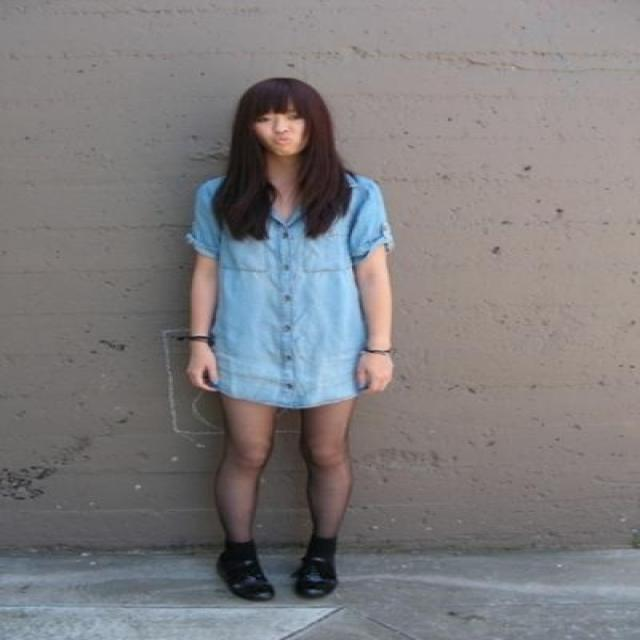dress: (188, 177, 390, 408)
shoe: (216, 534, 336, 600)
